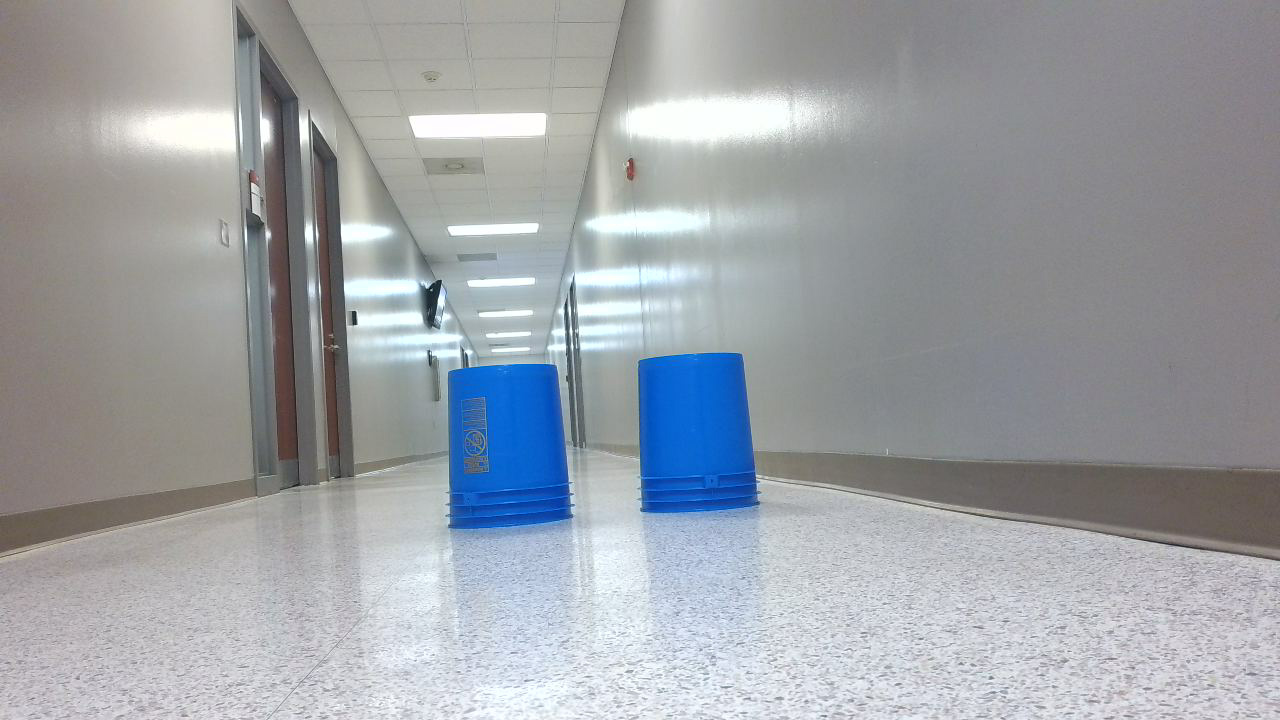blue_bucket: (449, 367, 581, 536), (641, 358, 769, 521)
